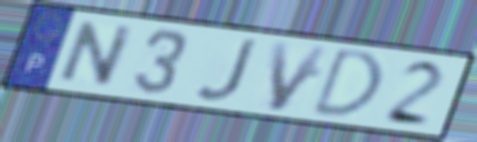2: (375, 60, 451, 127)
3: (131, 27, 192, 98)
D: (307, 46, 385, 119)
J: (193, 37, 263, 104)
N: (53, 18, 139, 88)
V: (267, 39, 334, 114)
